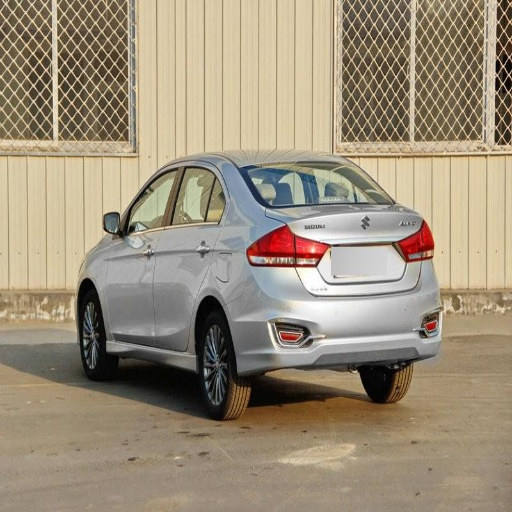back_bumper: (229, 262, 441, 371)
back_glass: (240, 165, 394, 208)
back_left_door: (155, 161, 227, 351)
tailgate: (288, 207, 417, 292)
